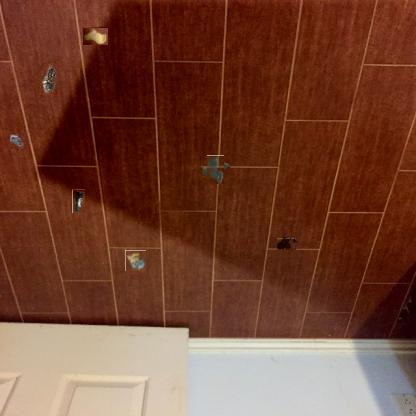dirty: (40, 63, 58, 95), (82, 27, 108, 45), (125, 250, 146, 271), (72, 189, 85, 213), (8, 133, 26, 149)
liquid: (204, 158, 227, 181), (278, 237, 298, 251)
